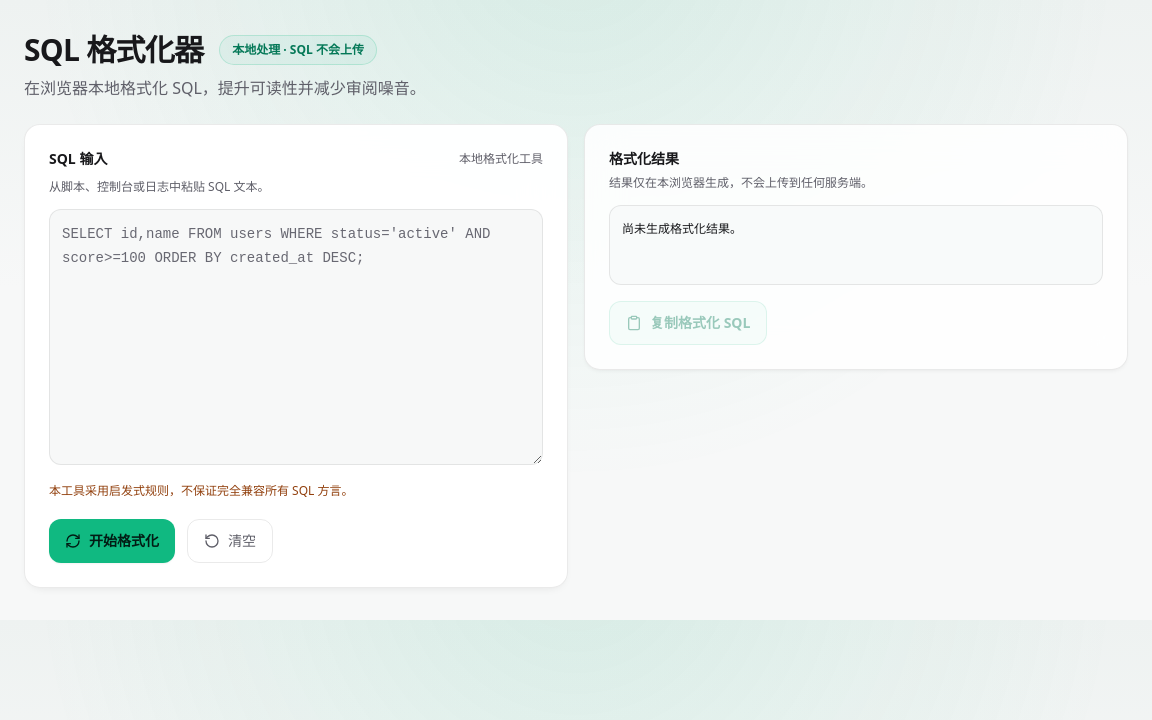
Test: SQL formatter client › shows error for unmatched parentheses
Replace the text in the text box with placeholder "SELECT id,name FROM users WHERE status='active' AND score>=100 ORDER BY created_at DESC;" with "SELECT (id,name FROM users" at (296, 337), box left=49, top=209, right=543, bottom=465
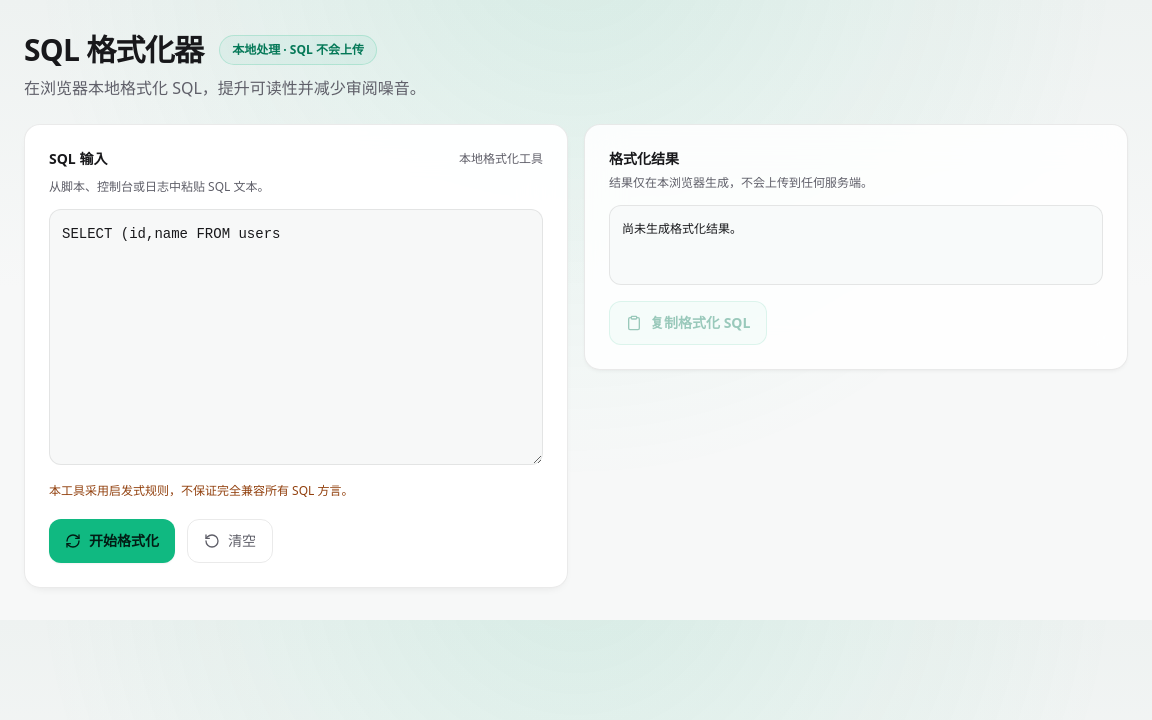
Click the button "开始格式化" at (112, 541), box left=49, top=519, right=175, bottom=563
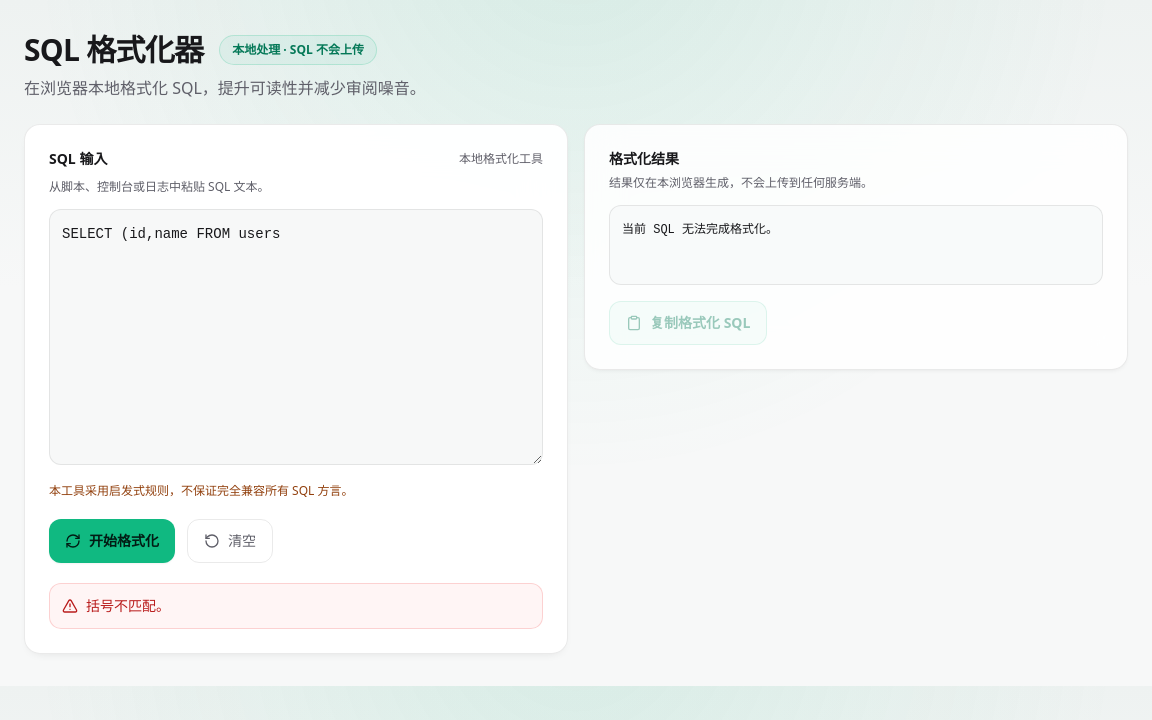
Expected: the text "括号不匹配。" is shown, left=49, top=583, right=543, bottom=629
